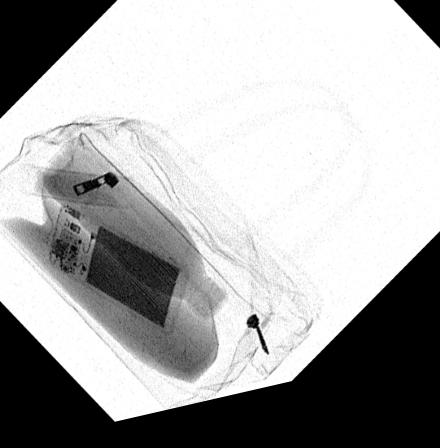Powerbank: (45, 202, 188, 343)
